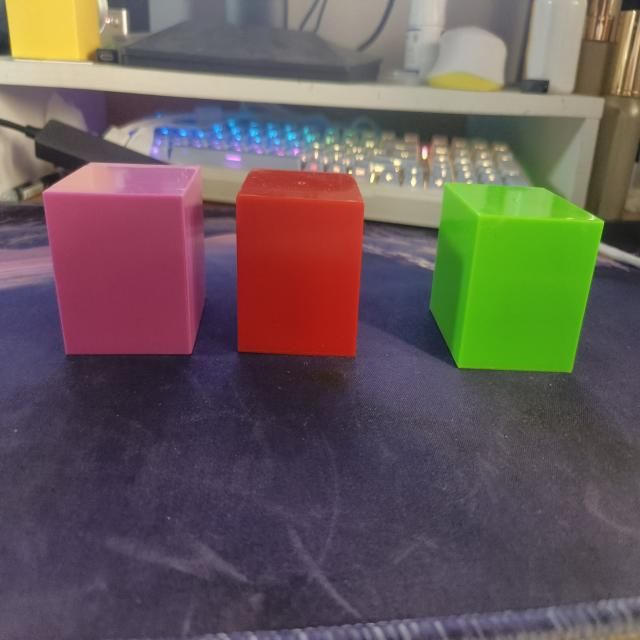green: (424, 179, 613, 379)
pink: (44, 159, 209, 357)
red: (232, 163, 366, 360)
